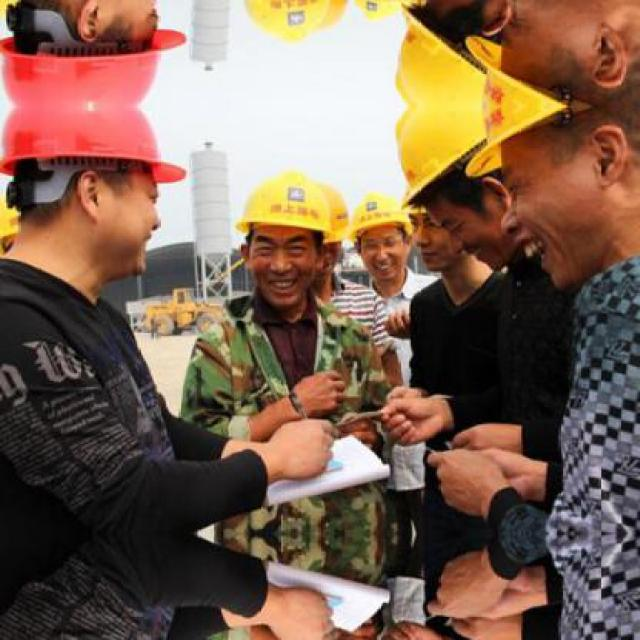helmet: (468, 108, 637, 291), (2, 107, 183, 271), (390, 106, 533, 259), (1, 0, 184, 106), (468, 0, 638, 105), (389, 0, 533, 106), (236, 166, 327, 304), (399, 182, 472, 273), (353, 187, 413, 280), (304, 178, 350, 278), (235, 0, 327, 46), (398, 0, 472, 31), (304, 0, 352, 35), (352, 0, 414, 26)
